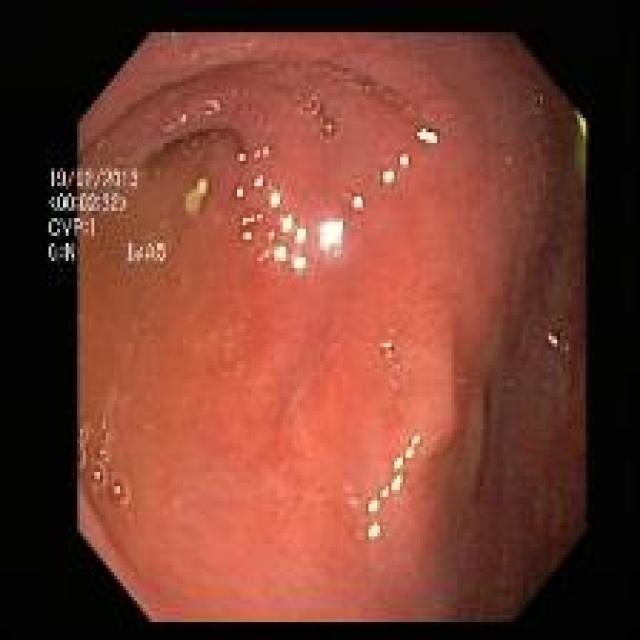ulcerative-colitis: (51, 33, 586, 623)
